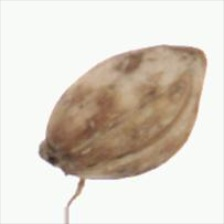L1: (36, 137, 72, 177), (175, 43, 210, 79)
L2: (39, 44, 207, 180)
